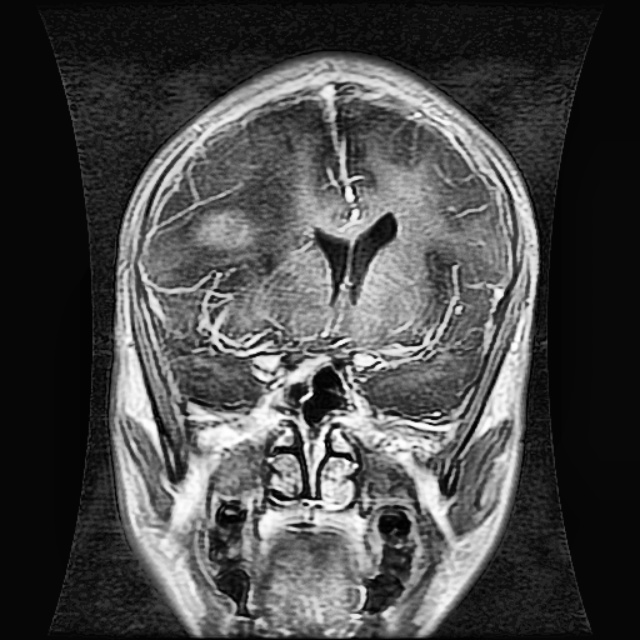Meningioma: (189, 204, 263, 253)
